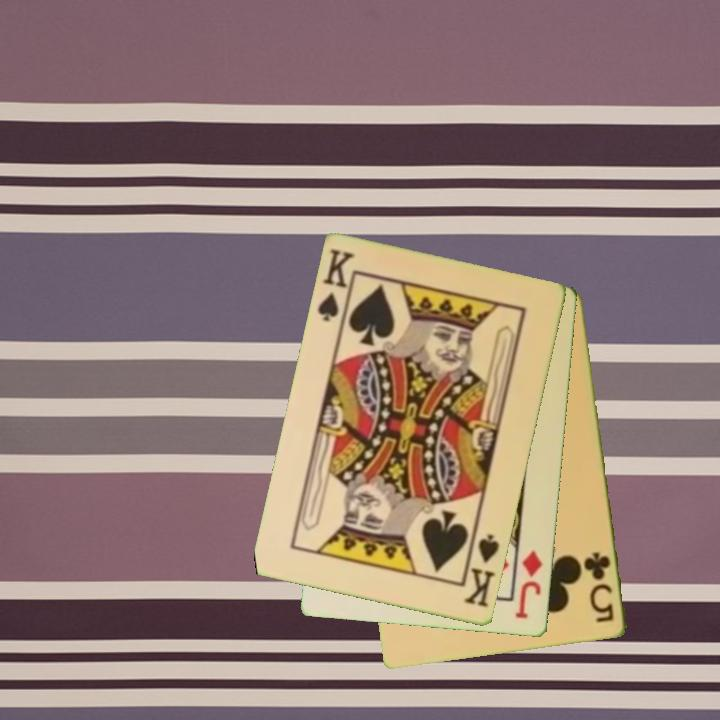5c: (581, 548, 617, 626)
Jd: (512, 548, 546, 622)
Ks: (314, 245, 358, 330), (460, 528, 503, 610)
